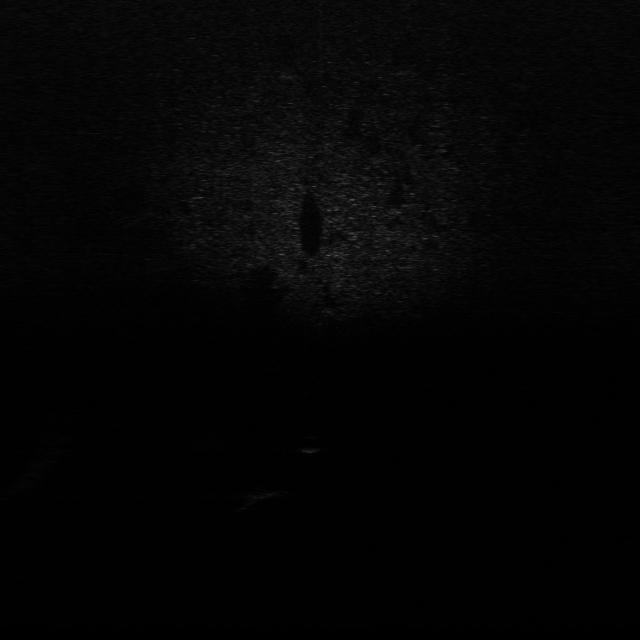ball: (294, 432, 327, 456)
square cage: (240, 488, 300, 502)
